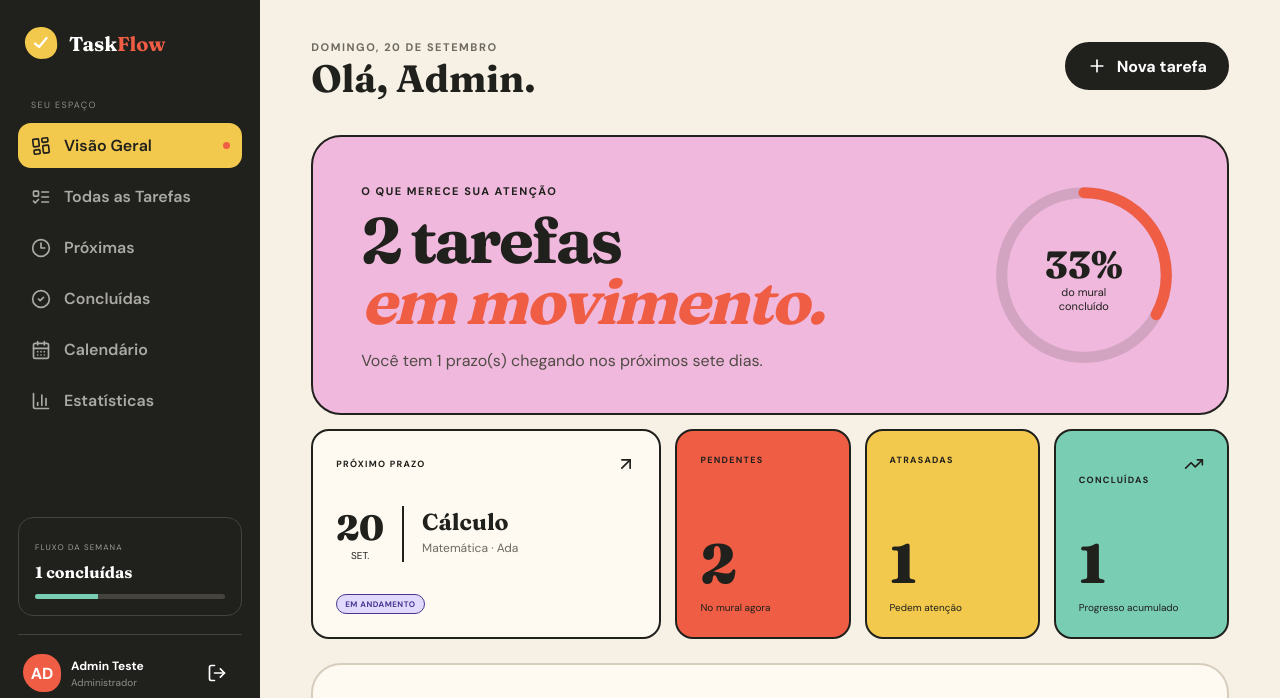
it: App tarefas e visualizações › calendário preserva datas locais, múltiplas tarefas e navega anos
Expected: the text "Admin Teste" is shown, [71,658,144,674]
Click the button "Calendário" at x=130, y=350, box [18,327,242,372]
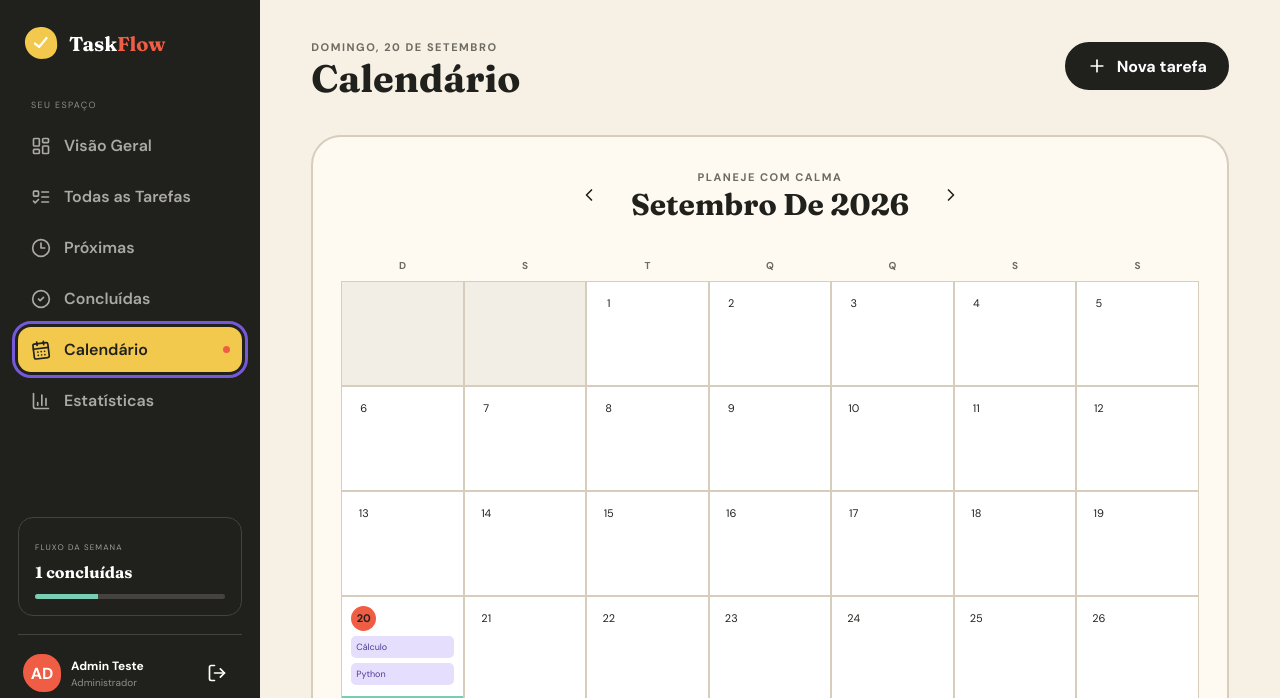
Expected: the text "Cálculo" is shown, [351,636,454,658]
Expected: the heading "setembro de 2026" is shown, [631,191,909,220]
Click the button named "Próximo mês" at x=951, y=195, box [931,175,971,215]
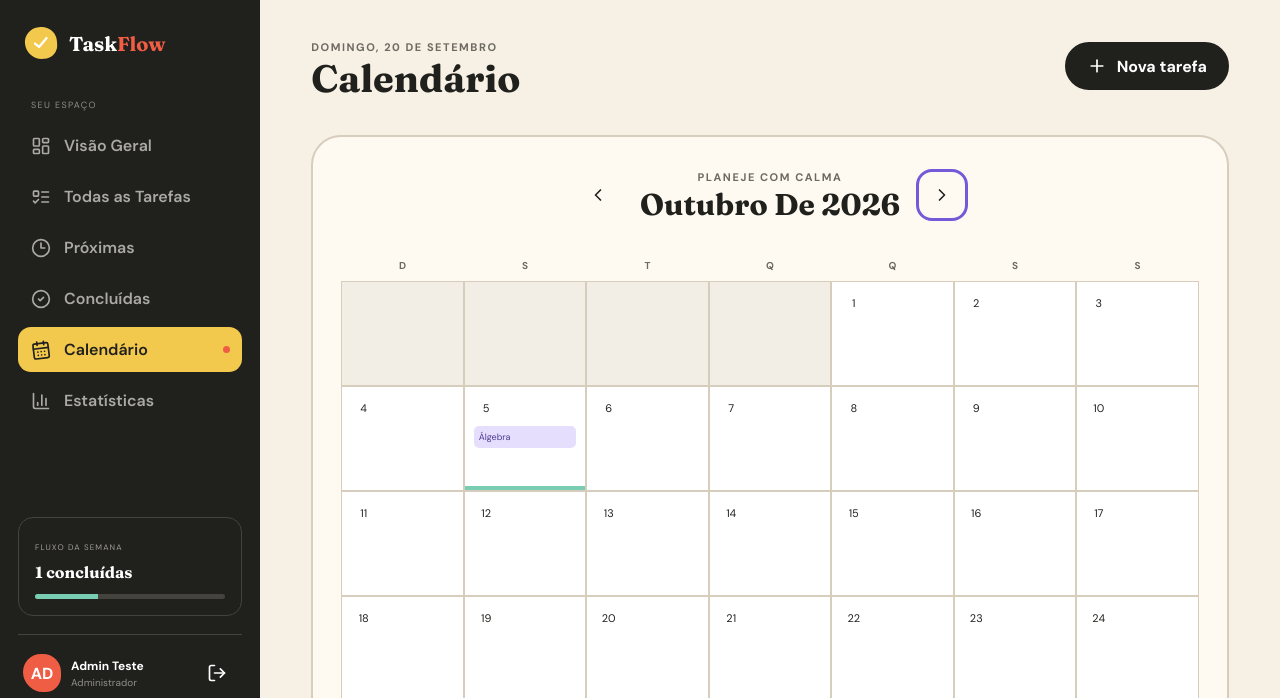
Expected: the heading "outubro de 2026" is shown, [640,191,900,220]
Click the button named "Mês anterior" at x=598, y=195, box [578,175,618,215]
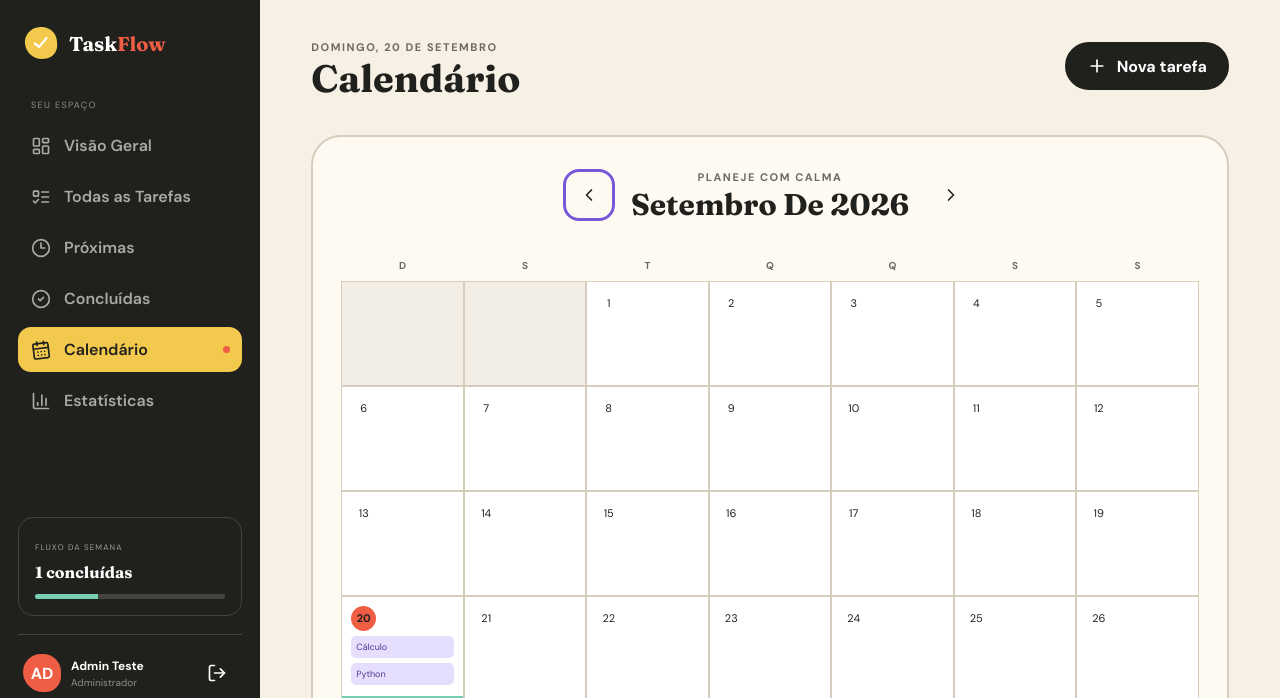
Expected: the heading "setembro de 2026" is shown, [631,191,909,220]
